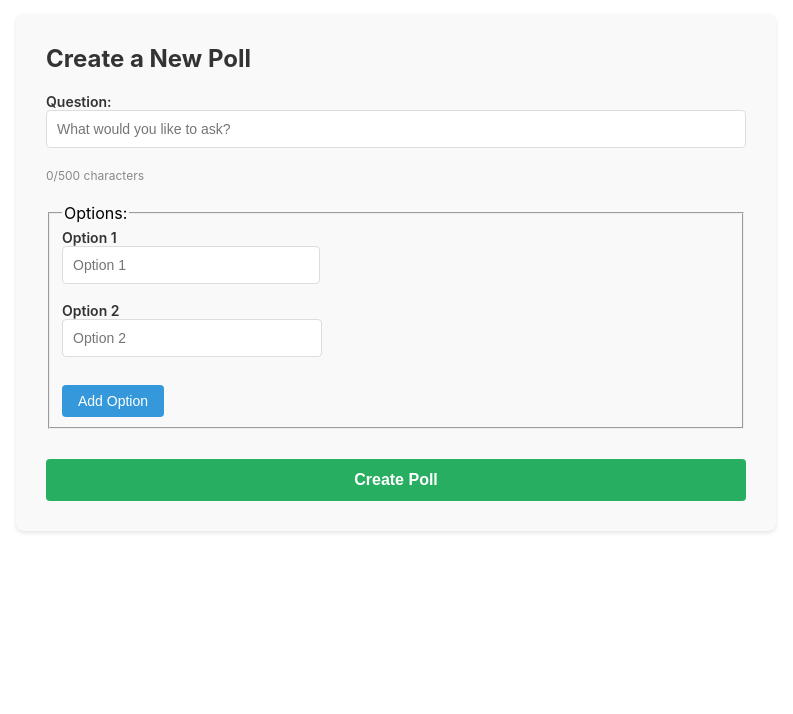
HostDashboard - Socket Event Handlers › handles poll-state-changed event
This screenshot has width=793, height=714.
Type "Test question?" into the field labelled "Question:" at (396, 129), box [46,110,746,148]
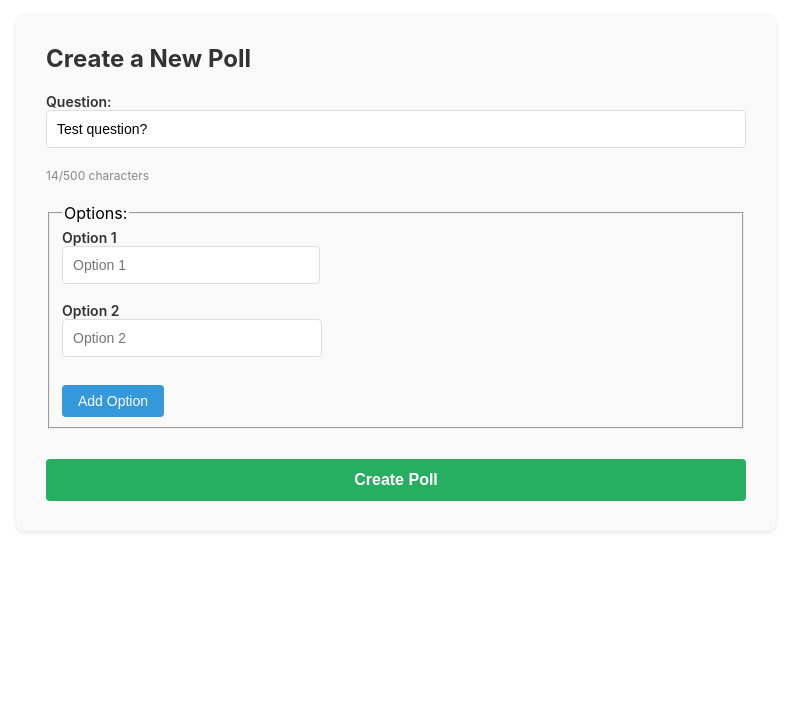
Type "Option A" into the field with placeholder "Option 1" at (191, 264), box [62,246,320,284]
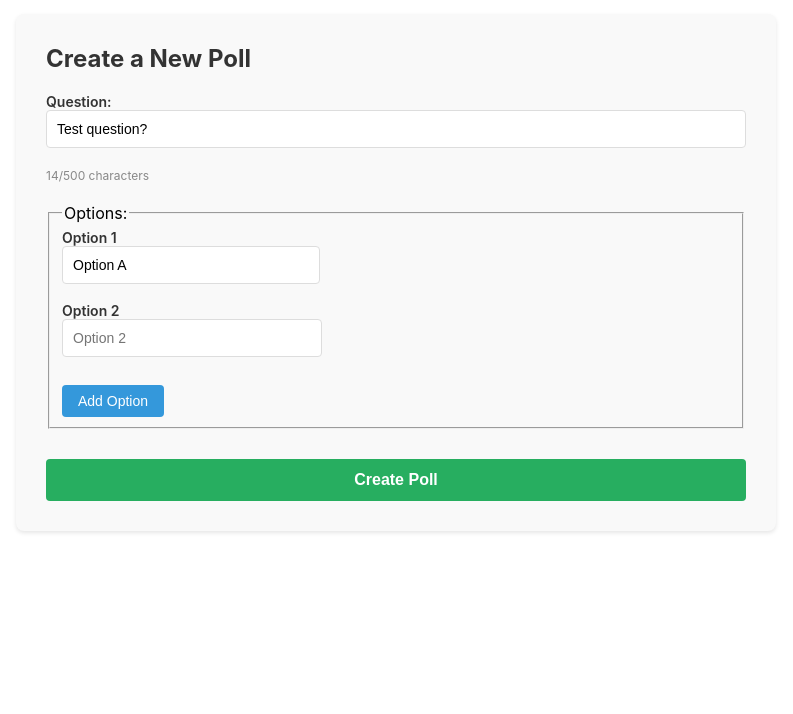
Type "Option B" into the field with placeholder "Option 2" at (192, 338), box [62,318,322,356]
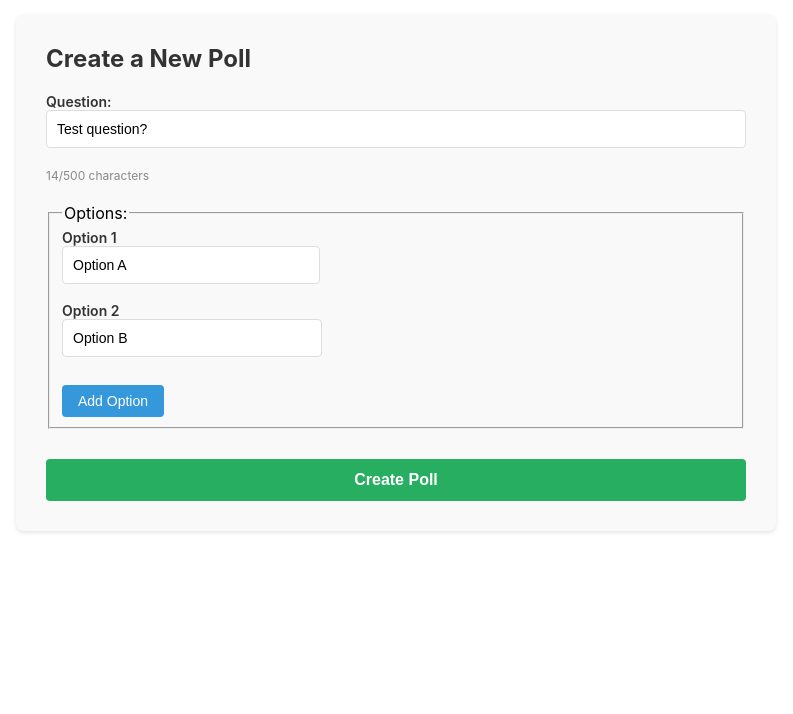
Click the button "Create Poll" at (396, 480), box [46,458,746,500]
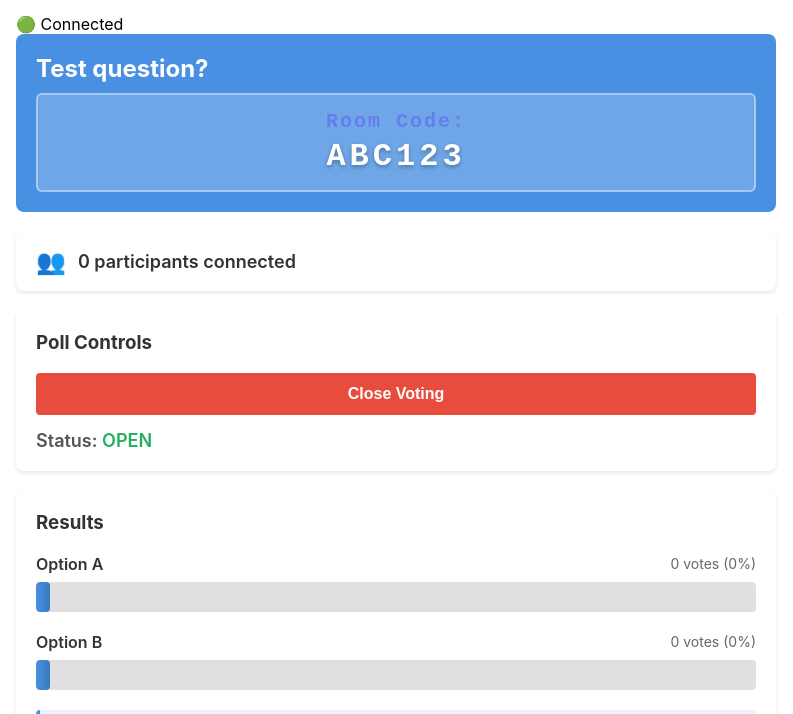
Check: the button "Close Voting" is shown, box [36,373,756,415]
